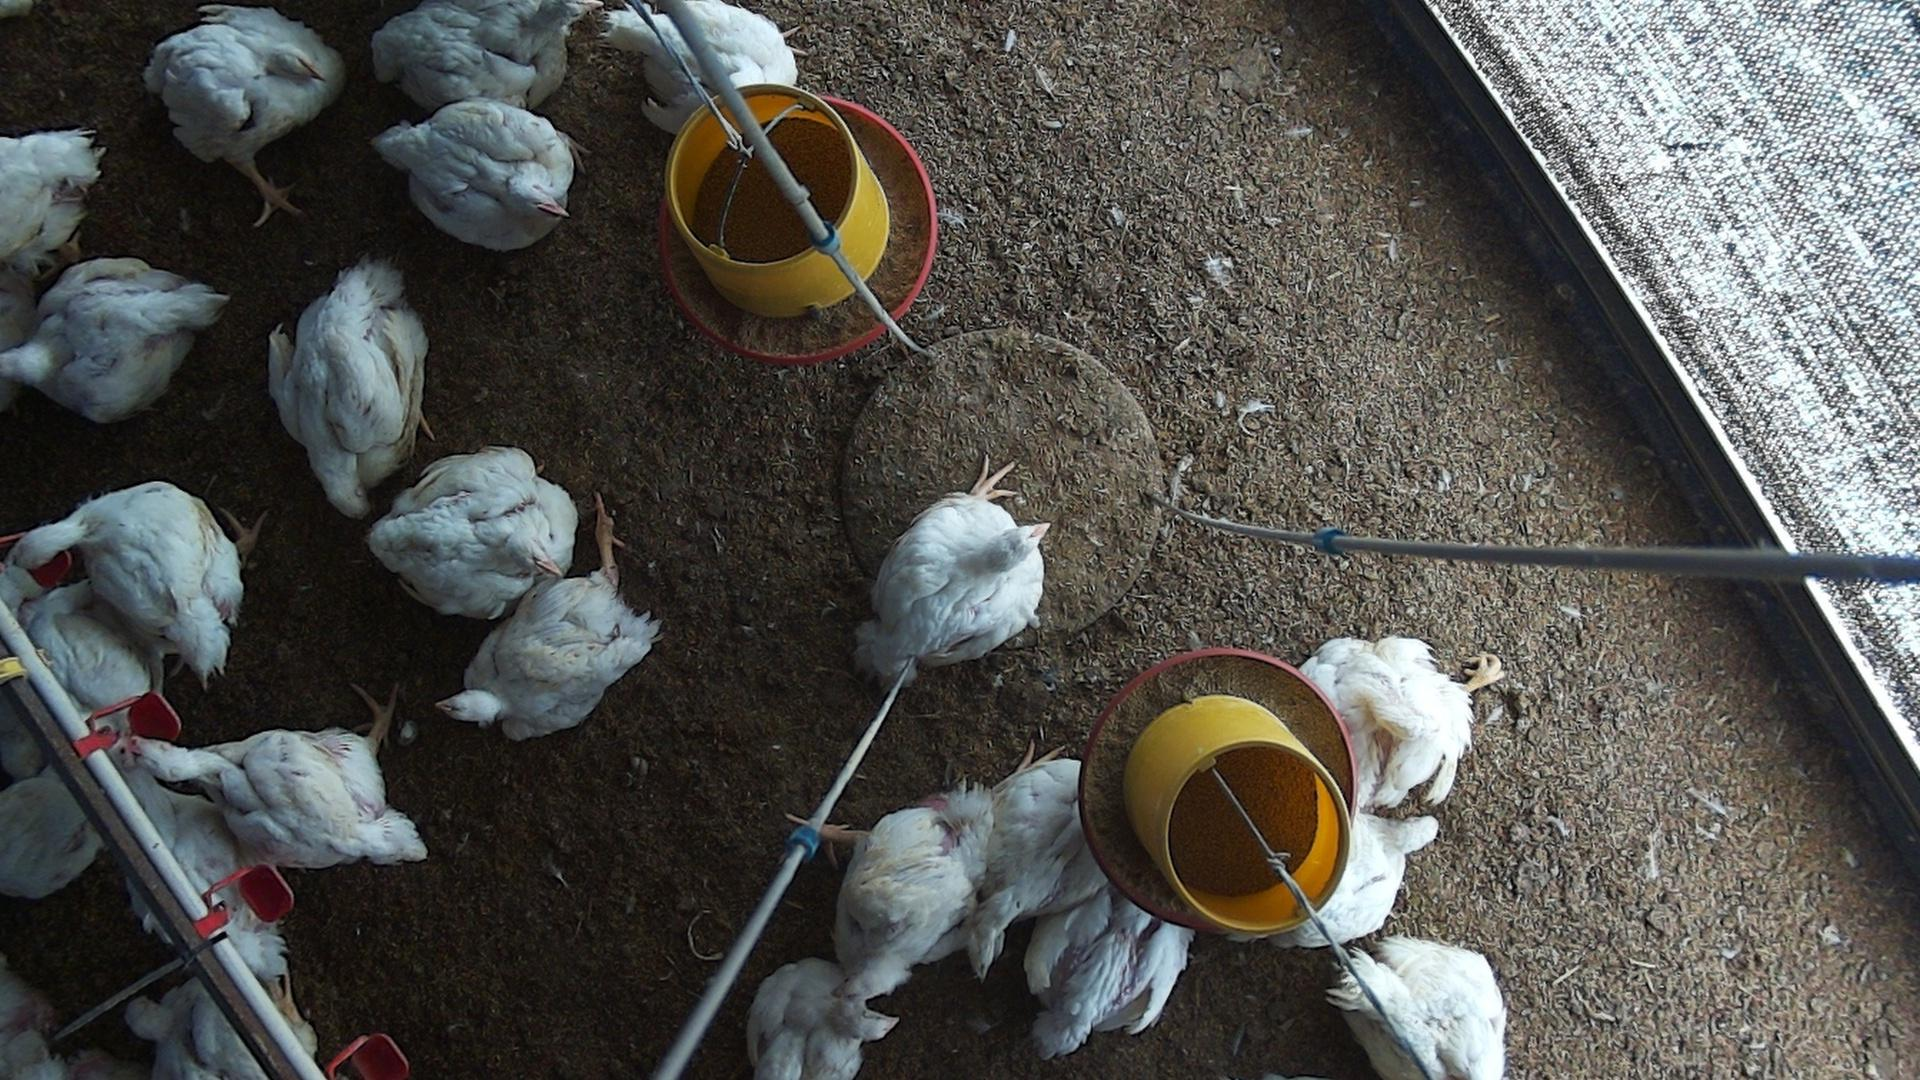ayam_broiler: (434, 492, 665, 741), (131, 684, 427, 869), (785, 787, 980, 1040), (22, 480, 243, 682), (142, 8, 342, 229), (860, 456, 1051, 676), (269, 257, 430, 508), (0, 257, 228, 422), (1302, 636, 1507, 811), (369, 447, 578, 617), (963, 740, 1105, 980), (373, 96, 588, 249), (1026, 894, 1191, 1056), (1327, 938, 1507, 1079), (371, 0, 597, 105), (608, 1, 799, 117), (1304, 815, 1439, 956), (128, 984, 315, 1079), (745, 960, 865, 1079), (0, 762, 102, 898), (0, 132, 102, 268)
